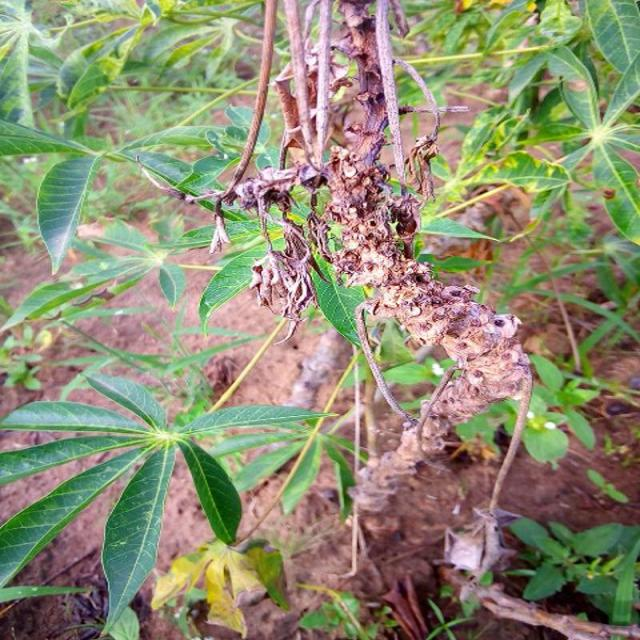cassava leaf: (1, 370, 340, 635), (101, 437, 178, 635), (36, 150, 106, 276)
